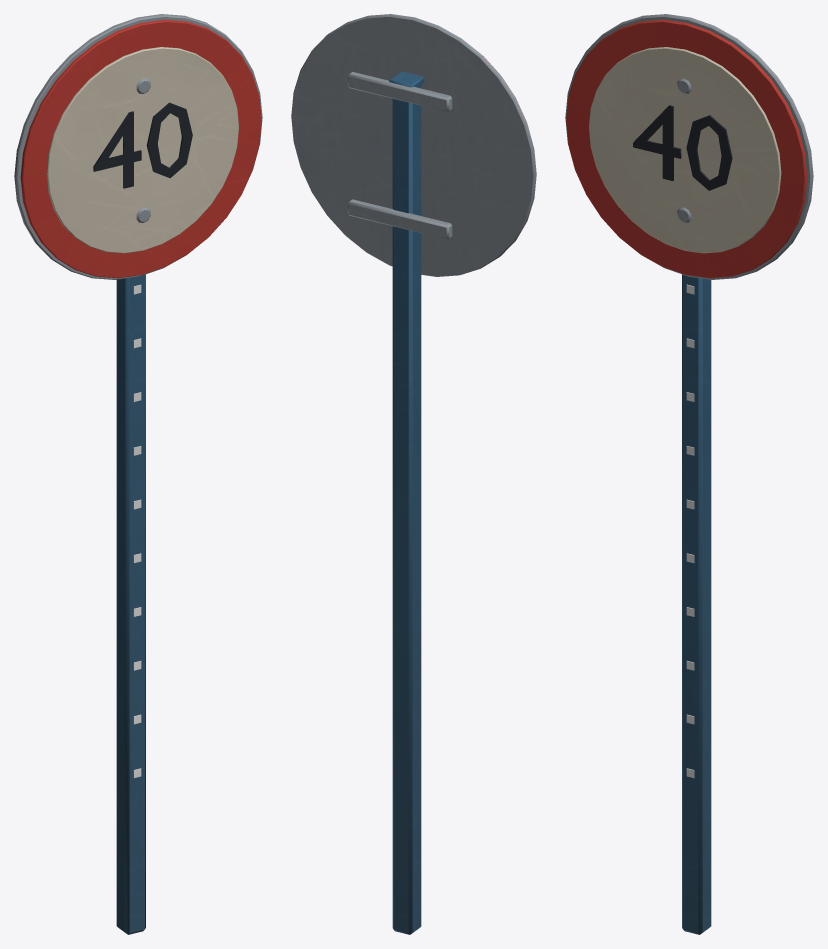
Rendered from speed_limit_sign.glb.
3 renders of one model, left to right at view 1: azimuth 30°, elevation 25°; view 2: azimuth 150°, elevation 25°; view 3: azimuth 330°, elevation 25°, orthographic.
Parts seen in each view (by area): view 1: speed_limit_sign; view 2: speed_limit_sign; view 3: speed_limit_sign.
Boxes of the visible parts, bbox=[...] form: speed_limit_sign: bbox=[14, 14, 262, 934]; speed_limit_sign: bbox=[291, 14, 536, 934]; speed_limit_sign: bbox=[565, 14, 813, 934].
Size of the model in its own units: 0.72 by 2.56 by 0.1145.
Materials: 8 (8 with a texture image).
